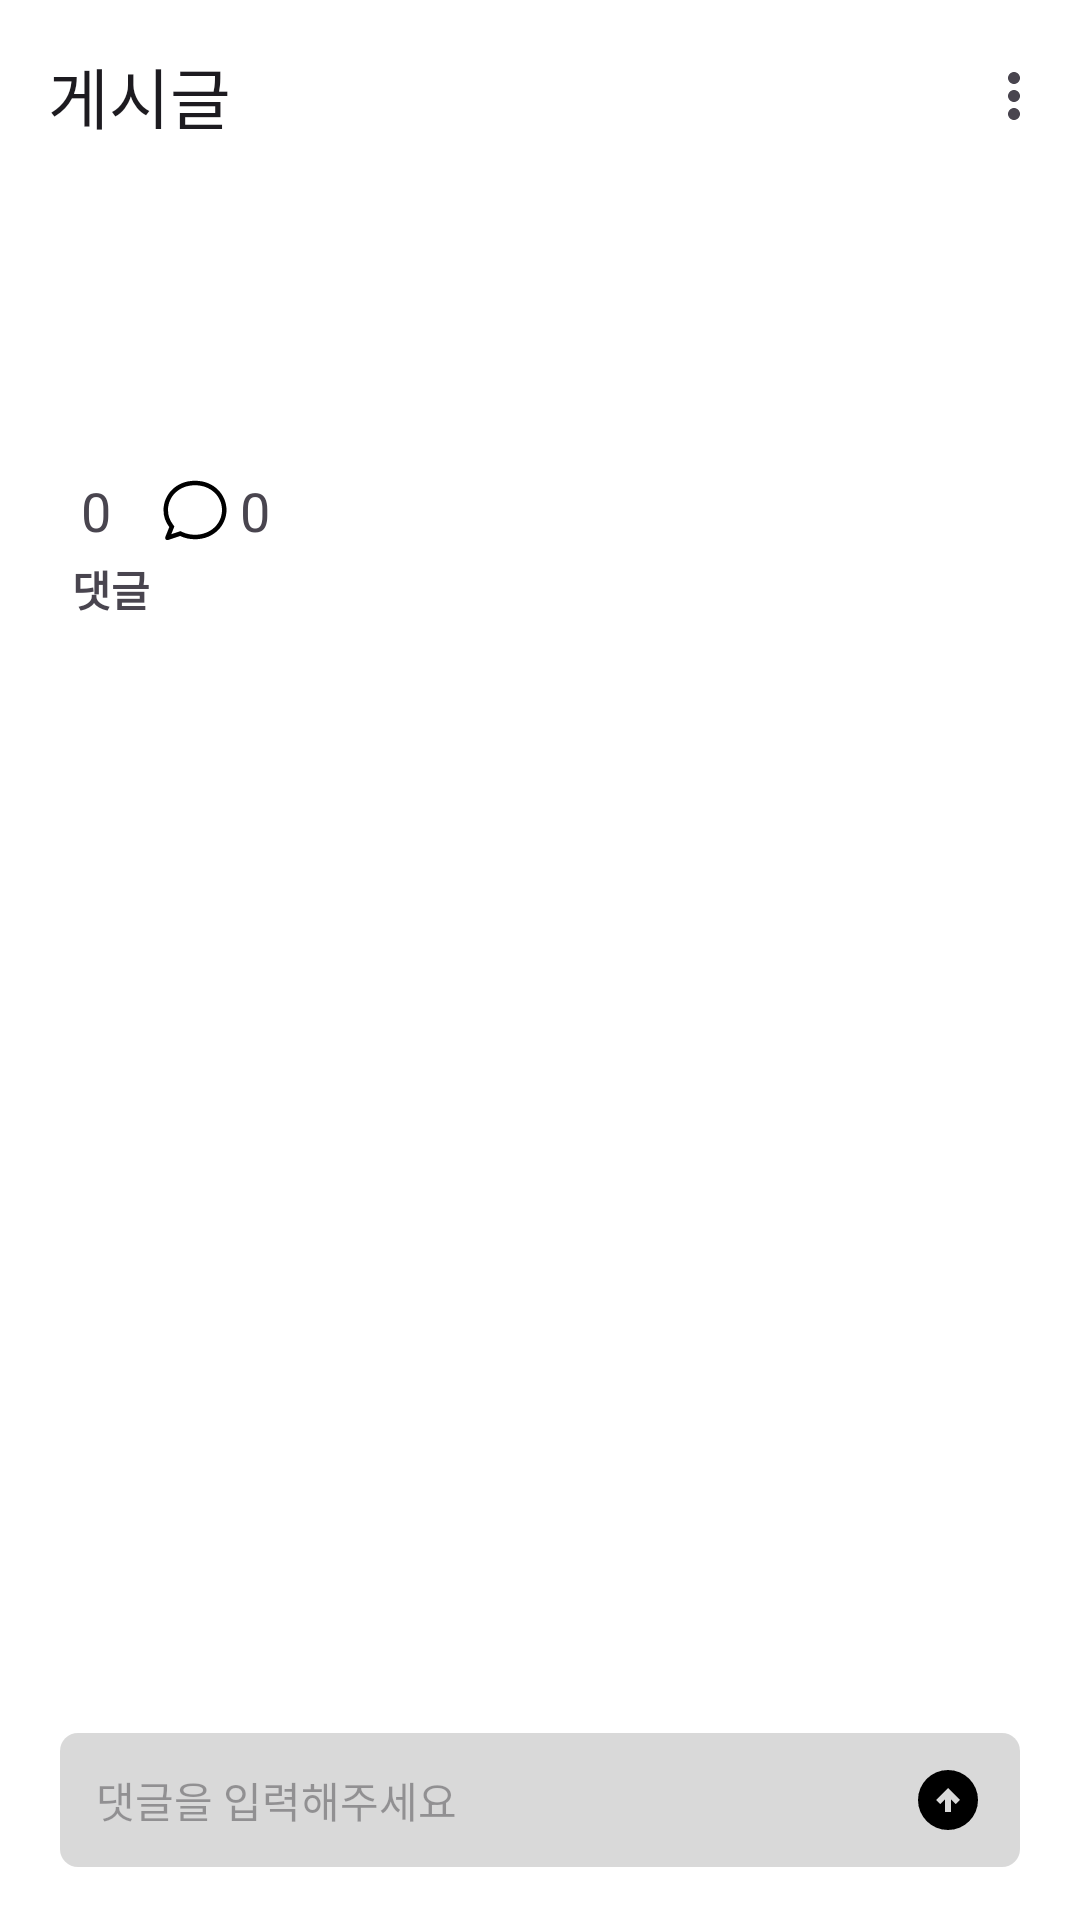

Locate icon controls on the screen. Image size 1080px×1920px, boxes as (x1, y1, x2, y2).
arrow circle up: (918, 1770, 978, 1830)
comment: (163, 480, 227, 540)
